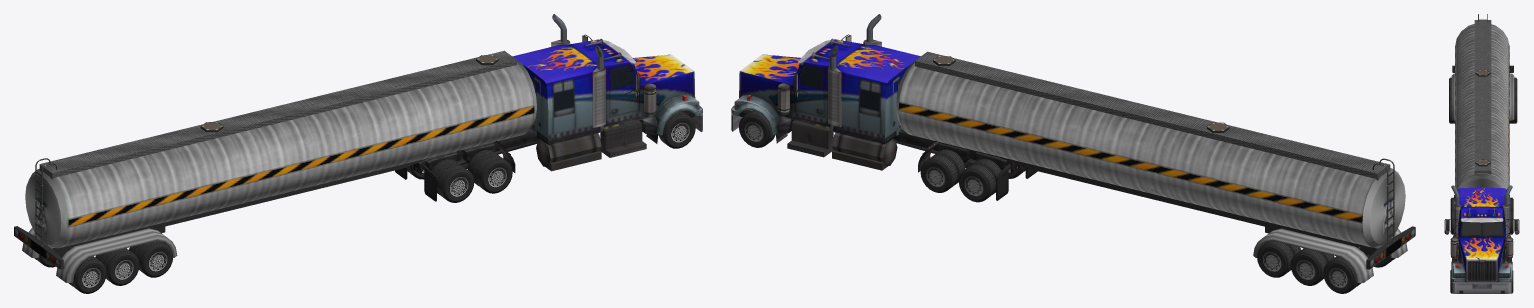
Rendered from frieghtliner_oil_tanker.glb.
3 renders of one model, left to right at view 1: azimuth 30°, elevation 25°; view 2: azimuth 150°, elevation 25°; view 3: azimuth 270°, elevation 25°, orthographic. The views are drawn at different scales.
Visible parts, largest first — view 1: Truck 4 Oil Tanker, Frieghtliner Oil Tanker, Wheels.019, Wheels.021, Wheels.025, Wheels.026, Wheel.015, Wheels.027; view 2: Truck 4 Oil Tanker, Frieghtliner Oil Tanker, Wheels.018, Wheels.020, Wheels.022, Wheels.023, Wheels.024, Wheel.014; view 3: Truck 4 Oil Tanker, Frieghtliner Oil Tanker, Wheels.022, Wheels.018, Wheels.019, Wheels.025.
Part boxes in pixels (<box>): Truck 4 Oil Tanker: <box>14,50,536,282</box>; Frieghtliner Oil Tanker: <box>395,14,702,201</box>; Wheels.019: <box>467,149,512,193</box>; Wheels.021: <box>431,159,474,202</box>; Wheels.025: <box>129,240,173,277</box>; Wheels.026: <box>95,248,139,285</box>; Wheel.015: <box>658,110,695,148</box>; Wheels.027: <box>68,256,106,293</box>; Truck 4 Oil Tanker: <box>896,51,1415,282</box>; Frieghtliner Oil Tanker: <box>731,14,1037,200</box>; Wheels.018: <box>920,149,965,192</box>; Wheels.020: <box>958,158,1001,202</box>; Wheels.022: <box>1257,240,1300,277</box>; Wheels.023: <box>1290,248,1334,285</box>; Wheels.024: <box>1323,256,1361,293</box>; Wheel.014: <box>739,110,775,147</box>; Truck 4 Oil Tanker: <box>1451,14,1514,201</box>; Frieghtliner Oil Tanker: <box>1444,185,1519,293</box>; Wheels.022: <box>1509,99,1517,123</box>; Wheels.018: <box>1510,210,1513,234</box>; Wheels.019: <box>1450,210,1453,234</box>; Wheels.025: <box>1449,99,1454,123</box>.
Bounding box in the file's own units: 21.46 × 3.87 × 3.25.
4 materials, 4 textured.
